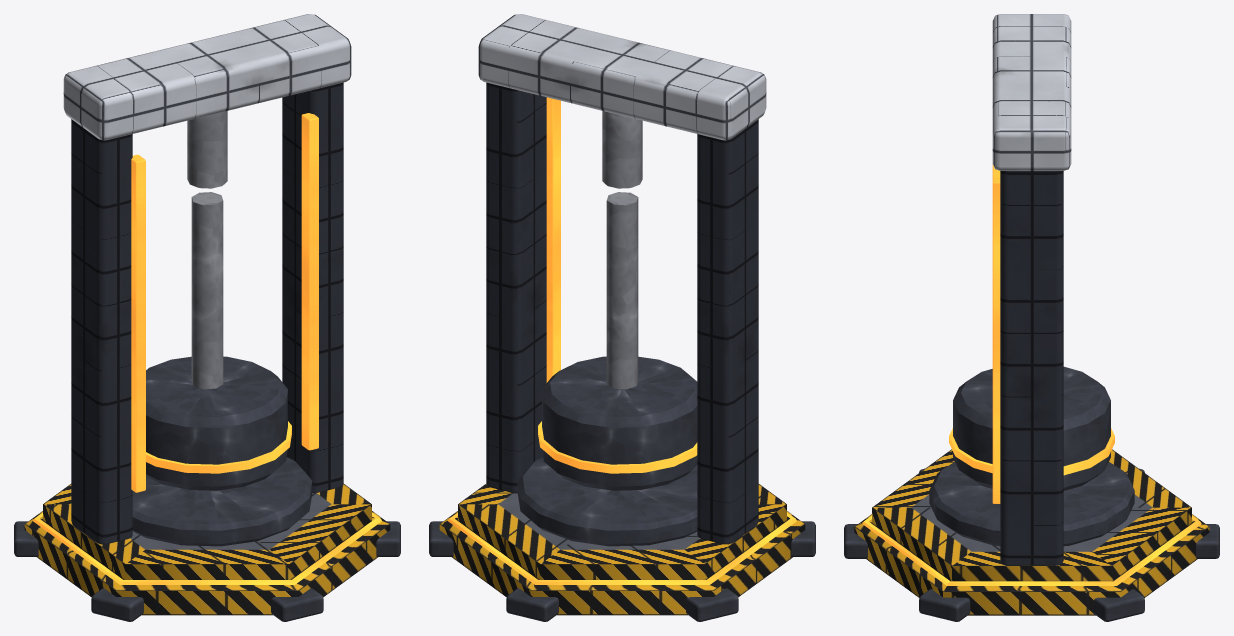
File: sf_quake.glb
The picture shows the model from 3 angles, left to right: view 1: azimuth 30°, elevation 25°; view 2: azimuth 150°, elevation 25°; view 3: azimuth 270°, elevation 25°; orthographic projection. The views are drawn at different scales.
Visible parts, largest first — view 1: Base, Turret; view 2: Base, Turret; view 3: Base, Turret.
Boxes of the visible parts, x1=… form: Base: x1=14, y1=14, x2=400, y2=621; Turret: x1=146, y1=192, x2=291, y2=490; Base: x1=429, y1=14, x2=815, y2=621; Turret: x1=538, y1=192, x2=697, y2=490; Base: x1=844, y1=14, x2=1219, y2=621; Turret: x1=949, y1=366, x2=1114, y2=490.
Size of the model in its own units: 0.8765 by 1.34 by 0.952.
Materials: 6 (6 with a texture image).
